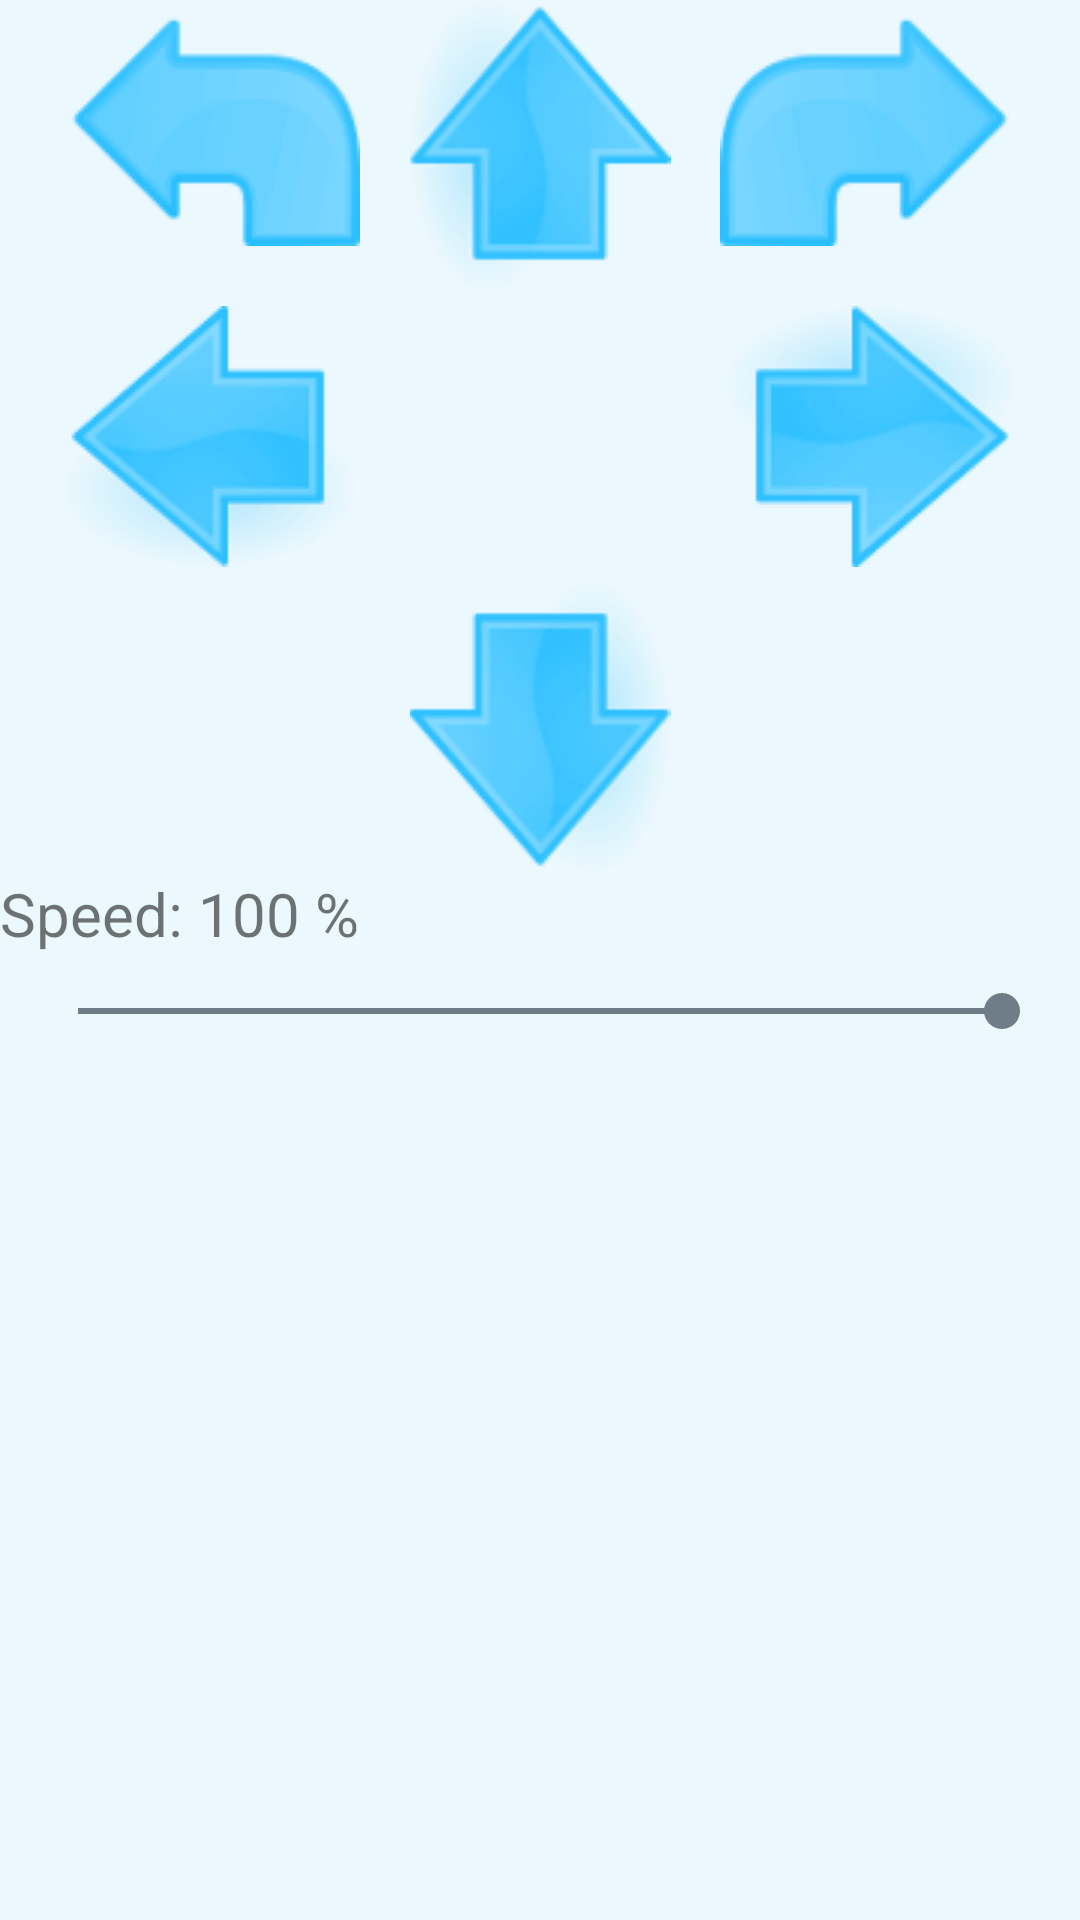

Screen size 1080w x 1920h. Icon name, then its center in pixels as [x,y]:
left: [198,436]
left turn: [216,132]
